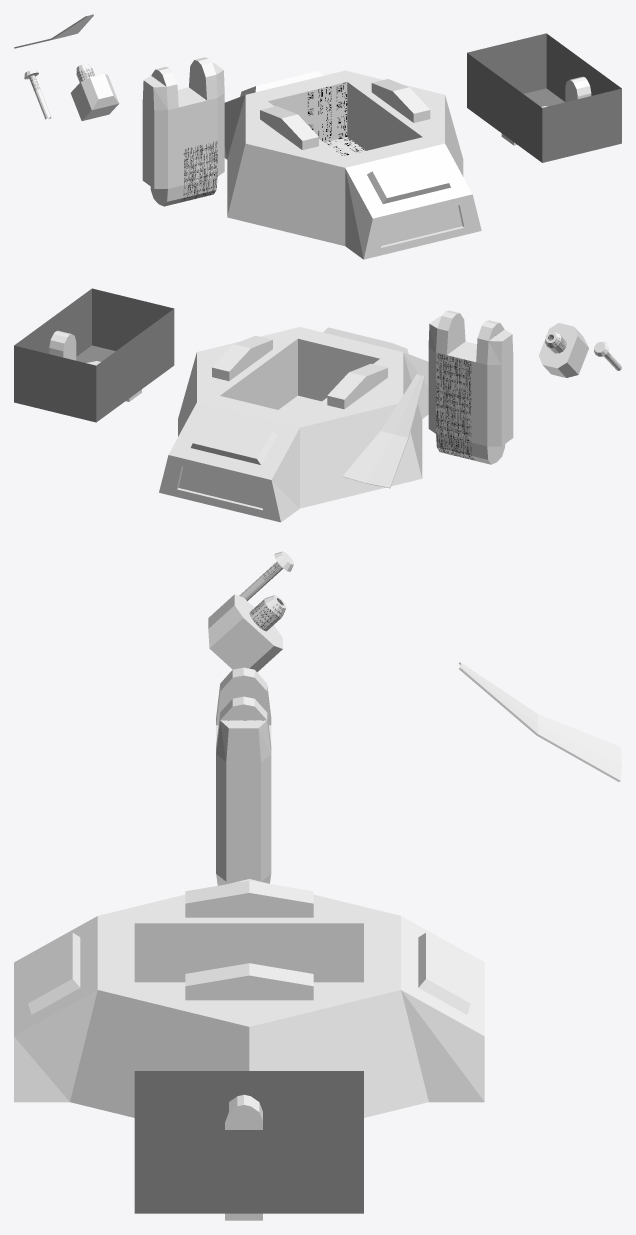
The model's file is Uplink_exploded.FBX.
The picture shows the model from 3 angles, top to bottom: view 1: azimuth 30°, elevation 25°; view 2: azimuth 150°, elevation 25°; view 3: azimuth 270°, elevation 25°; orthographic projection. The views are drawn at different scales.
Visible parts, largest first — view 1: base, Object001, antennamas, antennarec, antennabas, antennapol, dish1; view 2: base, Object001, antennamas, dish1, antennarec, antennabas, antennapol; view 3: base, Object001, antennamas, antennarec, dish1, antennabas.
Part boxes in pixels (left/top/right/bottom): base: left=224, top=70, right=481, bottom=259; Object001: left=467, top=33, right=621, bottom=162; antennamas: left=142, top=57, right=224, bottom=206; antennarec: left=70, top=63, right=119, bottom=120; antennabas: left=501, top=76, right=591, bottom=145; antennapol: left=24, top=69, right=51, bottom=119; dish1: left=14, top=14, right=93, bottom=48; base: left=159, top=327, right=428, bottom=522; Object001: left=14, top=288, right=174, bottom=422; antennamas: left=428, top=310, right=513, bottom=464; dish1: left=342, top=374, right=424, bottom=488; antennarec: left=539, top=323, right=588, bottom=377; antennabas: left=49, top=330, right=141, bottom=401; antennapol: left=594, top=341, right=621, bottom=370; base: left=14, top=879, right=484, bottom=1117; Object001: left=134, top=1071, right=363, bottom=1213; antennamas: left=216, top=667, right=271, bottom=885; antennarec: left=208, top=594, right=286, bottom=672; dish1: left=458, top=662, right=621, bottom=781; antennabas: left=225, top=1094, right=262, bottom=1220.
Bounding box in the file's own units: 185 × 59.75 × 117.
